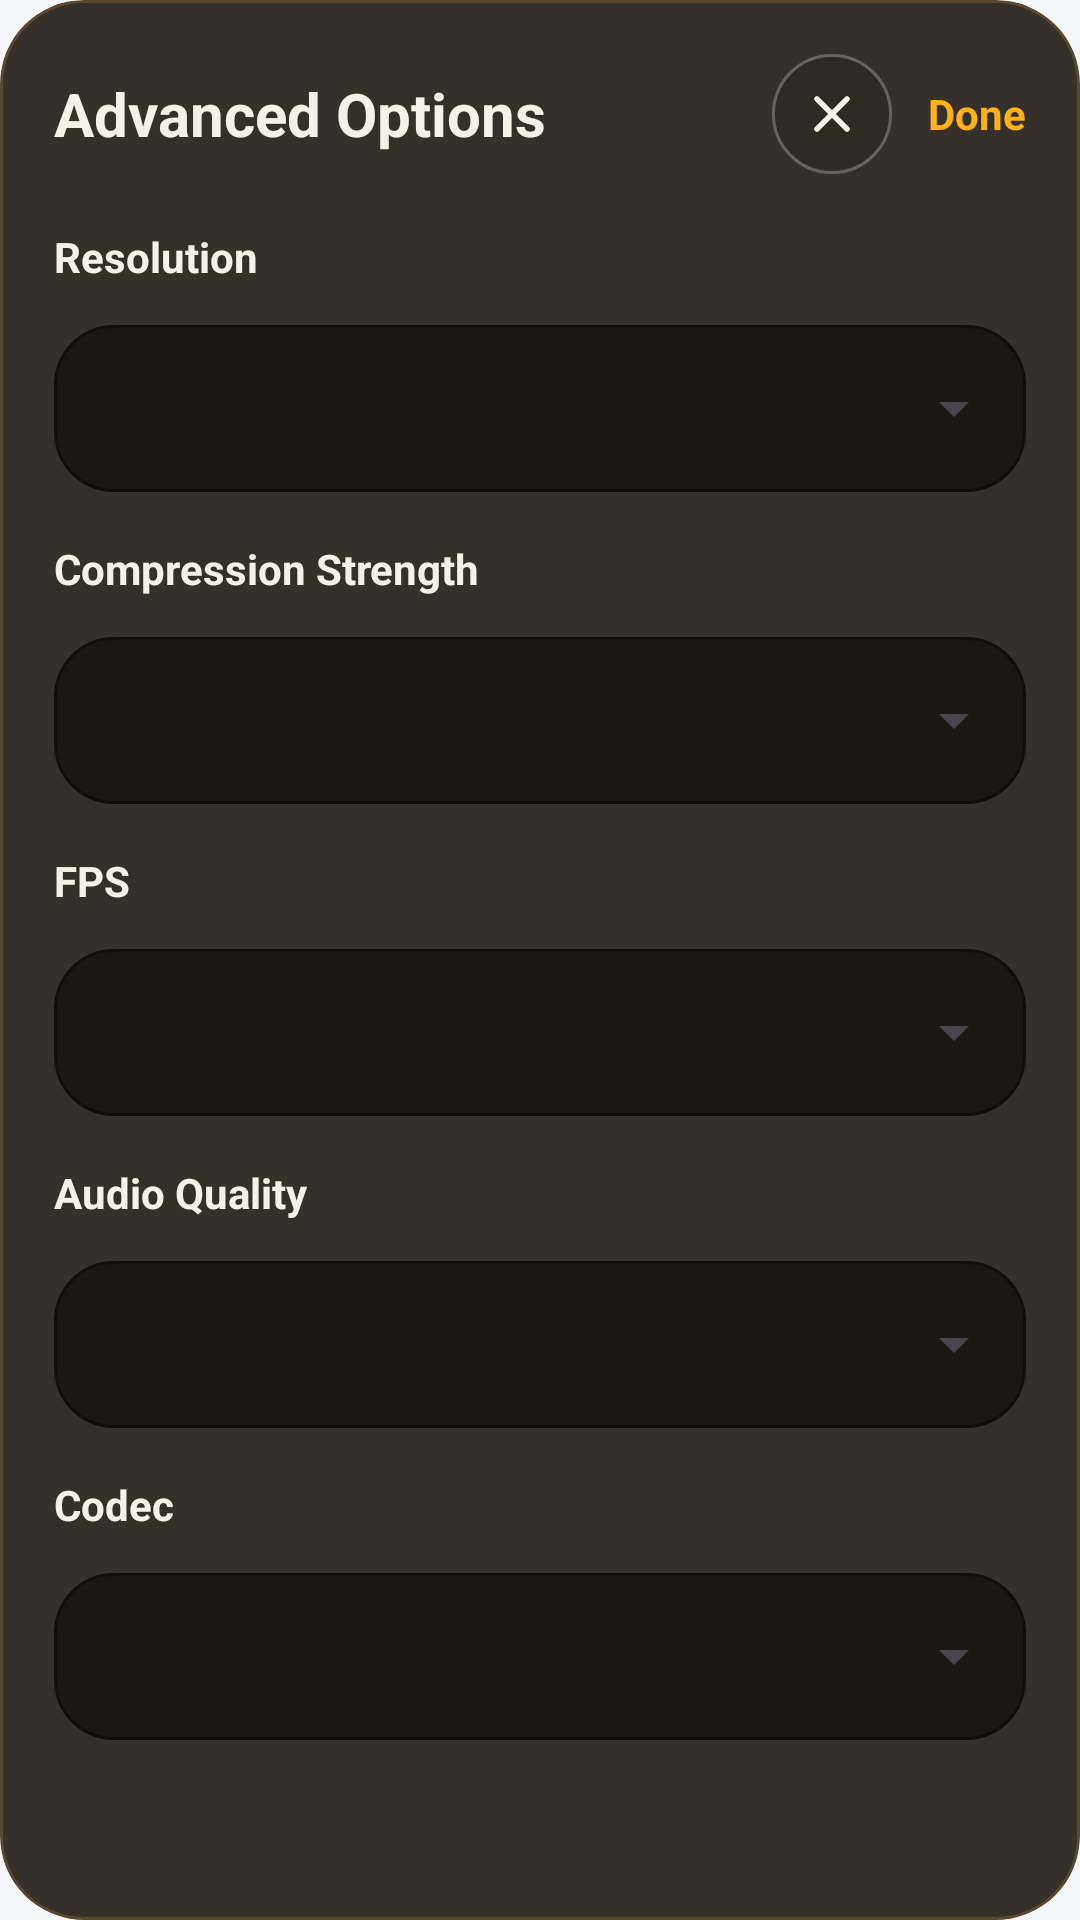

Named icons in this screenshot (1080px×1920px) and their bounding boxes, (x1, y1, x2, y2):
close: (772, 54, 892, 174)
